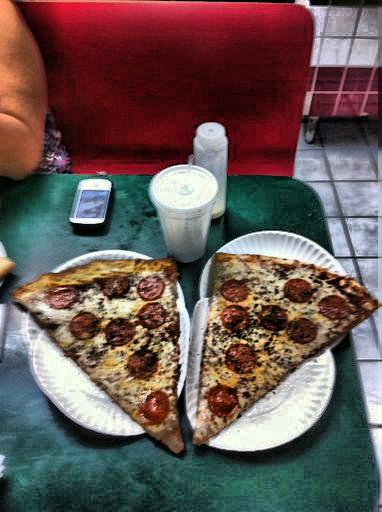pizza: (18, 259, 195, 460)
